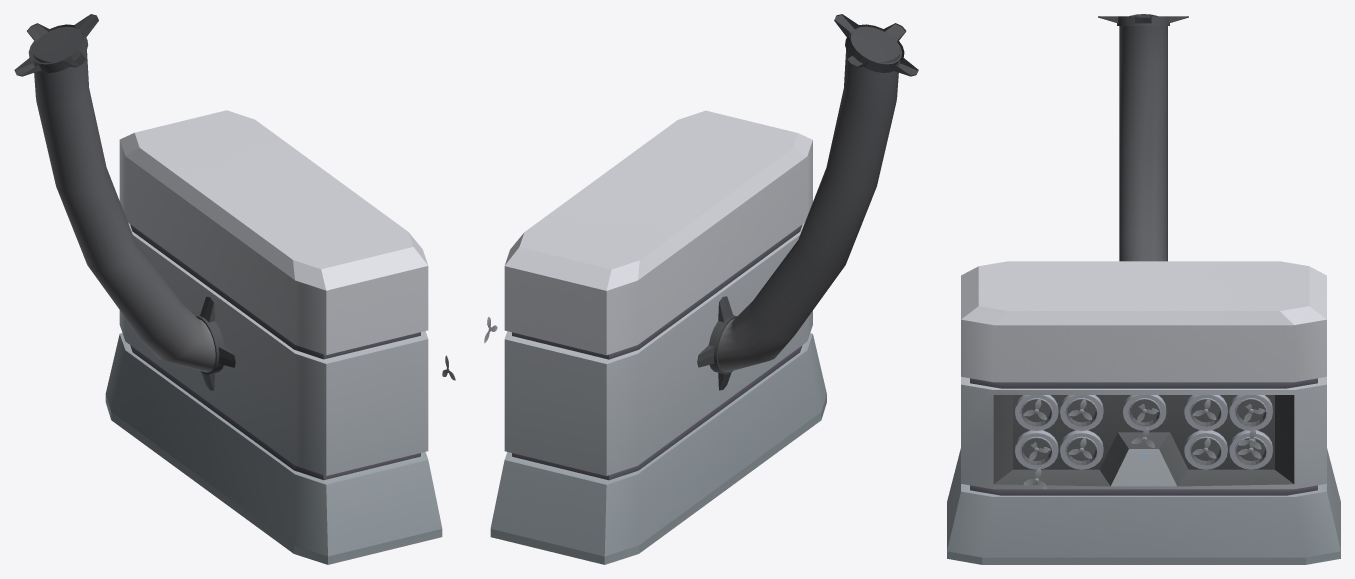
The model's file is airfiltration.fbx.
3 views of the same model, side by side, from view 1: azimuth 30°, elevation 25°; view 2: azimuth 150°, elevation 25°; view 3: azimuth 270°, elevation 25° (orthographic). The views are drawn at different scales.
Visible parts, largest first — view 1: polySurface36; view 2: polySurface36; view 3: polySurface36.
Boxes of the visible parts, box(x1,y1,x2,y2) form: polySurface36: box(14, 14, 442, 564); polySurface36: box(490, 14, 918, 564); polySurface36: box(947, 14, 1340, 564).
Bounding box in the file's own units: 32.54 × 41.57 × 33.66.
